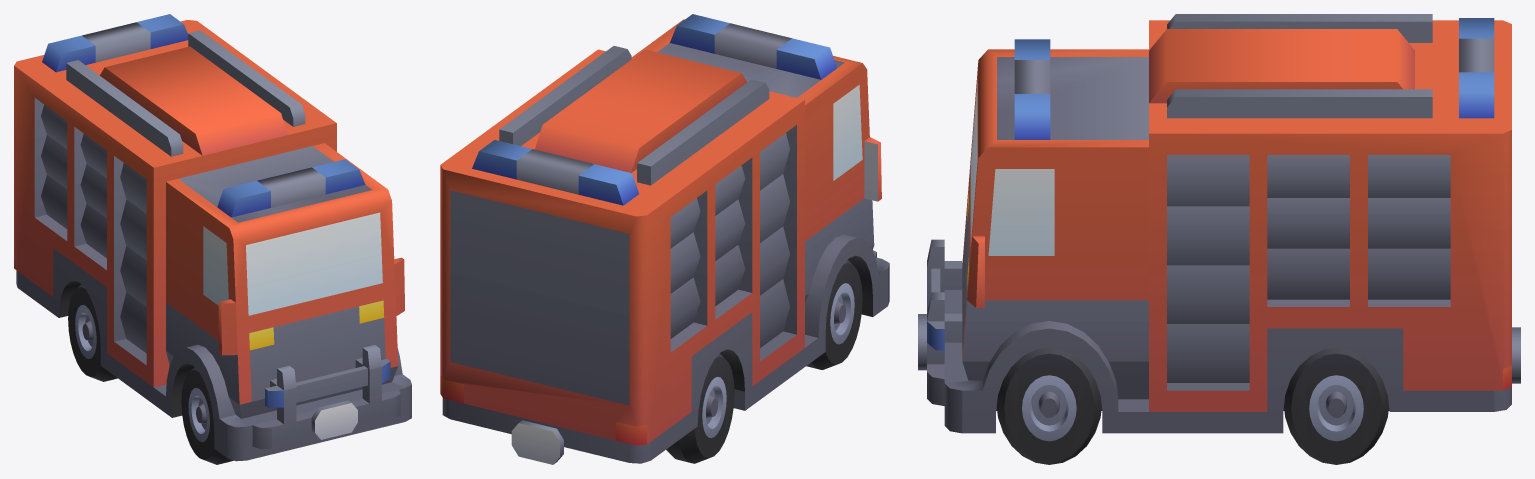
Rendered from truck_fire.glb.
The picture shows the model from 3 angles, left to right: view 1: azimuth 30°, elevation 25°; view 2: azimuth 150°, elevation 25°; view 3: azimuth 270°, elevation 25°; orthographic projection. The views are drawn at different scales.
Parts seen in each view (by area): view 1: body; view 2: body; view 3: body.
Part boxes in pixels (left/top/right/bottom): body: left=14, top=14, right=411, bottom=464; body: left=440, top=14, right=889, bottom=464; body: left=918, top=14, right=1520, bottom=464.
Size of the model in its own units: 1.6 by 2.4 by 3.6.
1 material, 1 textured.
